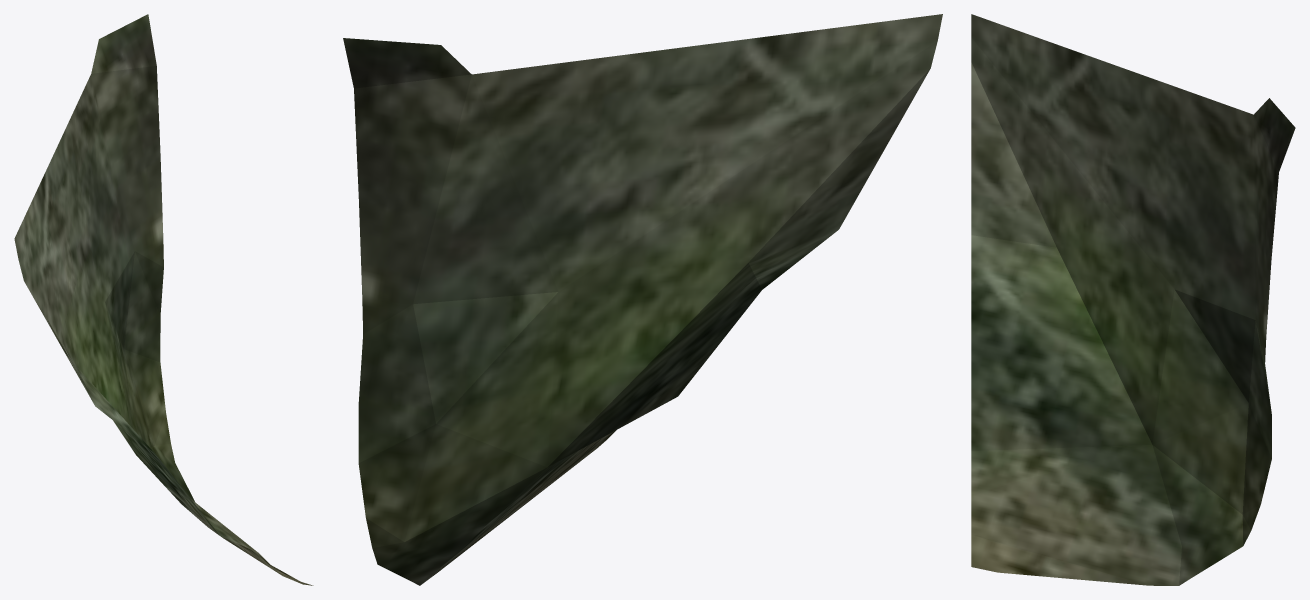
3 views of the same model, side by side, from view 1: azimuth 30°, elevation 25°; view 2: azimuth 150°, elevation 25°; view 3: azimuth 270°, elevation 25° (orthographic). The views are drawn at different scales.
Size of the model in its own units: 2.27 by 3.4 by 2.18.
Materials: 1 (1 with a texture image).
